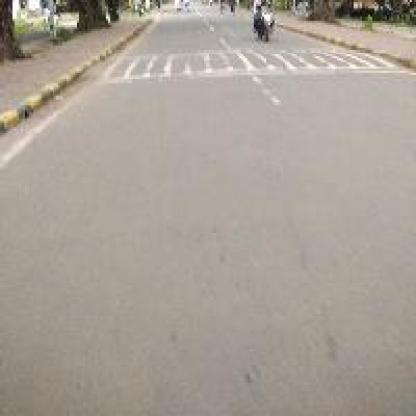Speed Bump: (100, 48, 401, 81)
